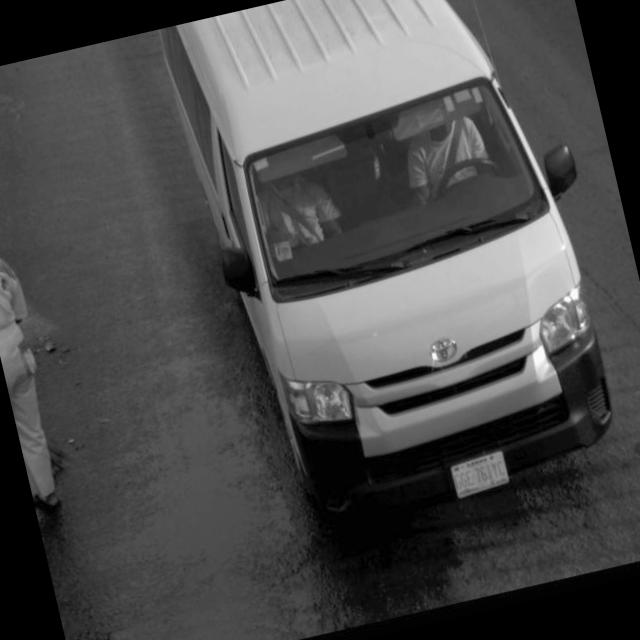person_with_seatbelt: (384, 74, 519, 232)
